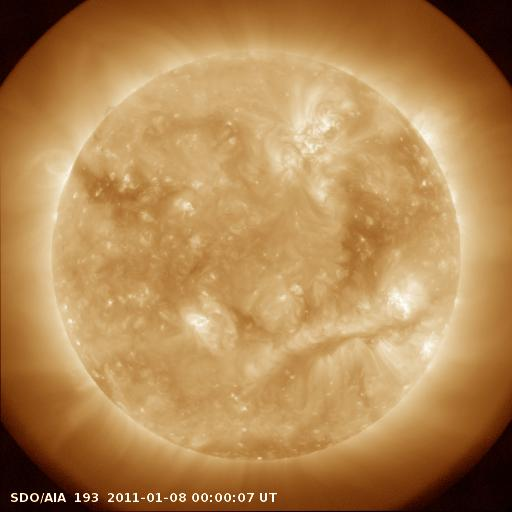coronal_hole: (334, 174, 405, 300), (69, 157, 171, 227), (203, 430, 329, 463)
